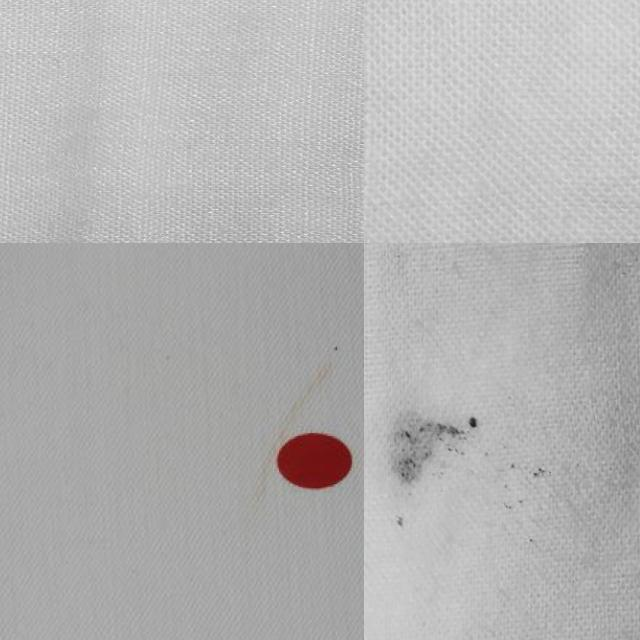Thread_other: (364, 358, 604, 598)
